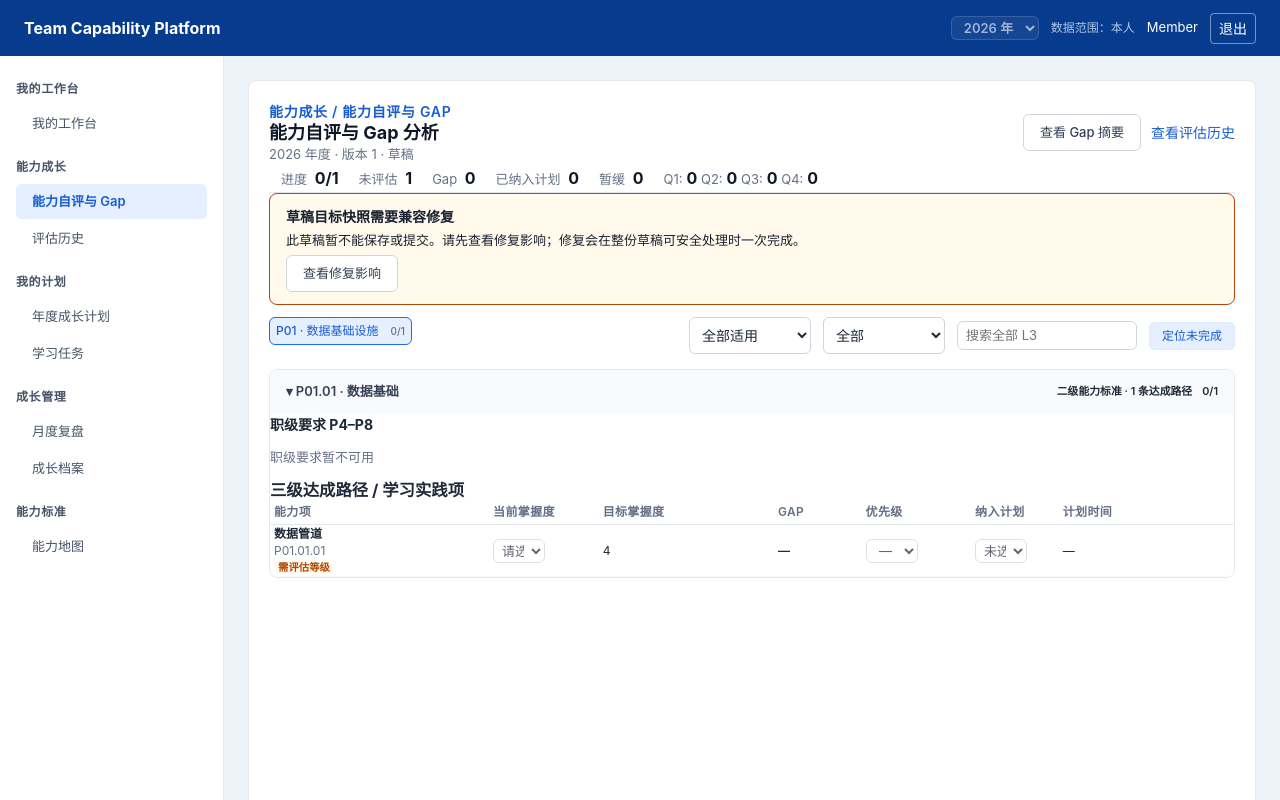
Assessment draft target repair › keeps the draft visible when repair returns 409
Expected: the message "草稿目标快照需要兼容修复" is shown, [269,193,1235,305]
Step 1. Click the button "查看修复影响" → (342, 273), box [286,254,398,292]
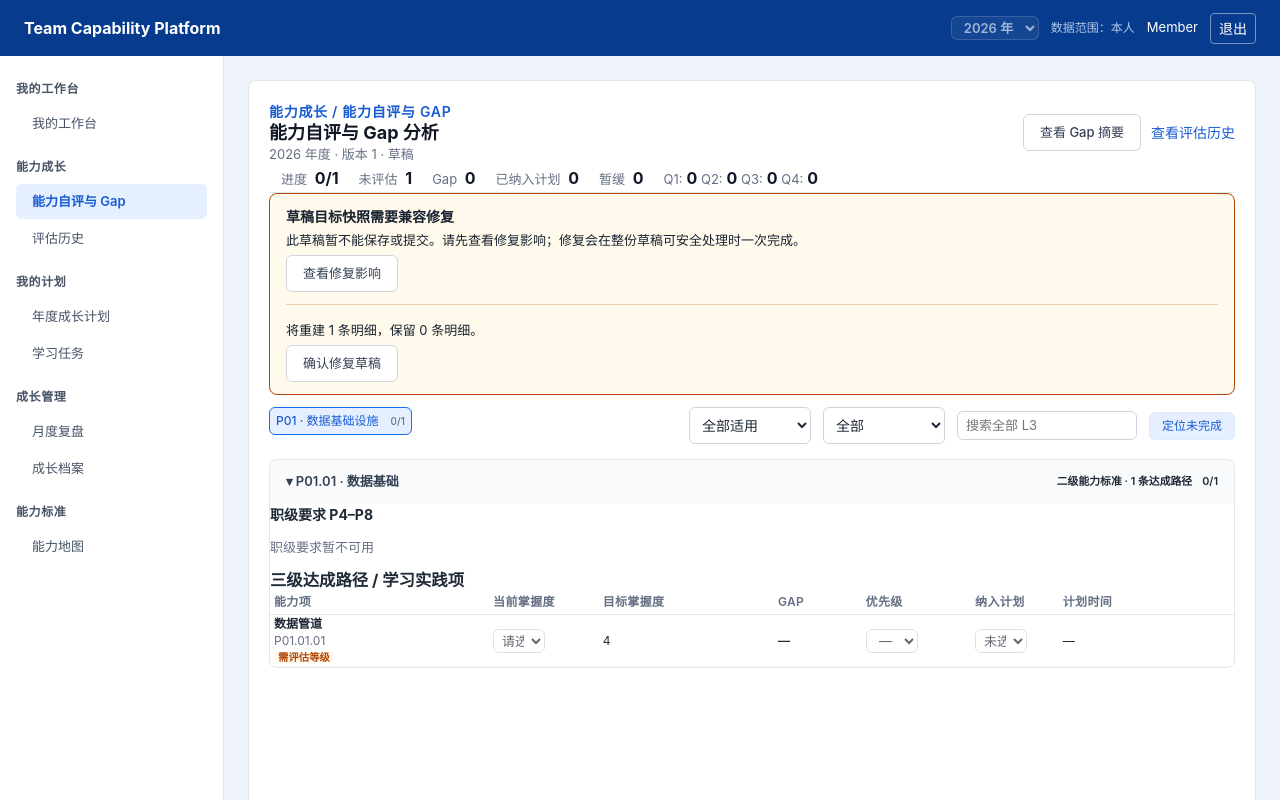
Expected: the button "确认修复草稿" is shown
Step 2. Click the button "确认修复草稿" → (342, 363), box [286,344,398,382]
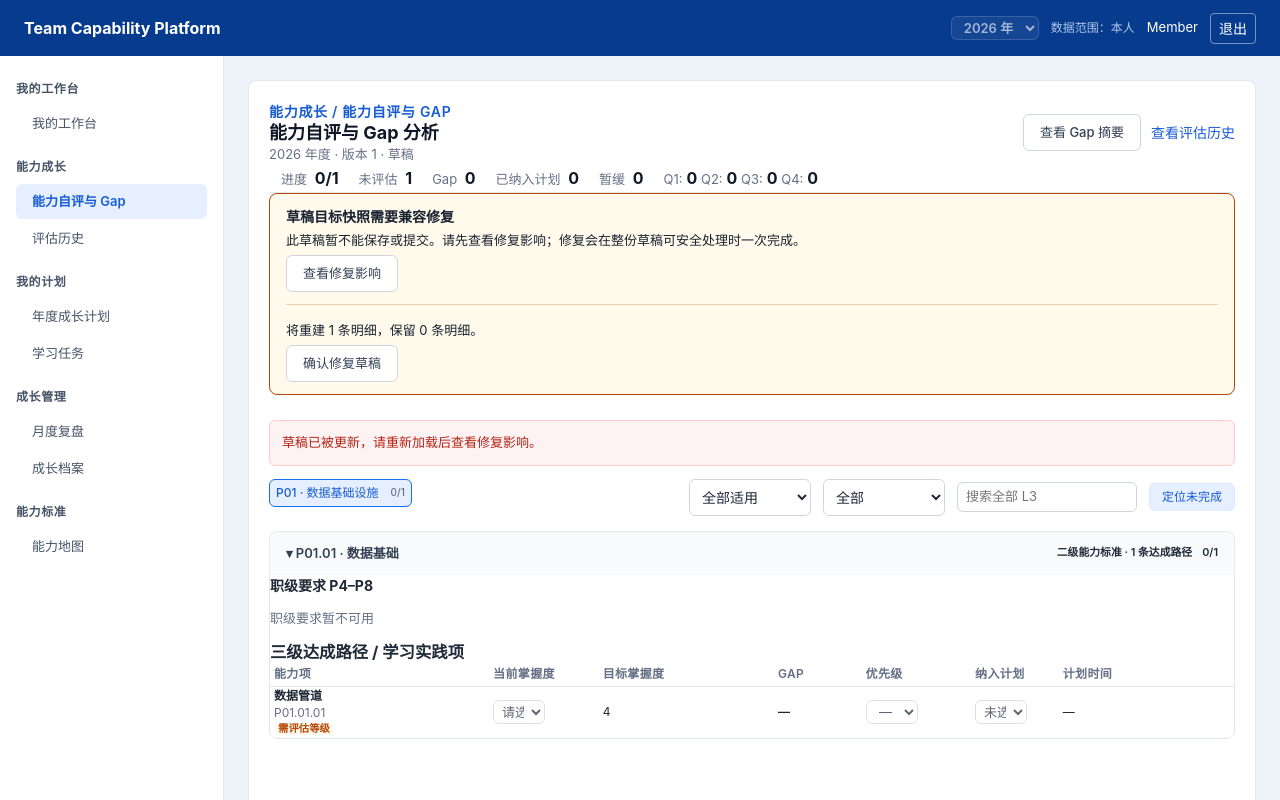
Expected: the message "草稿目标快照需要兼容修复" is shown, [269,193,1235,395]
Expected: the button "确认修复草稿" is shown, [286,344,398,382]
Expected: the text "草稿已被更新，请重新加载后查看修复影响。" is shown, [269,420,1235,466]
